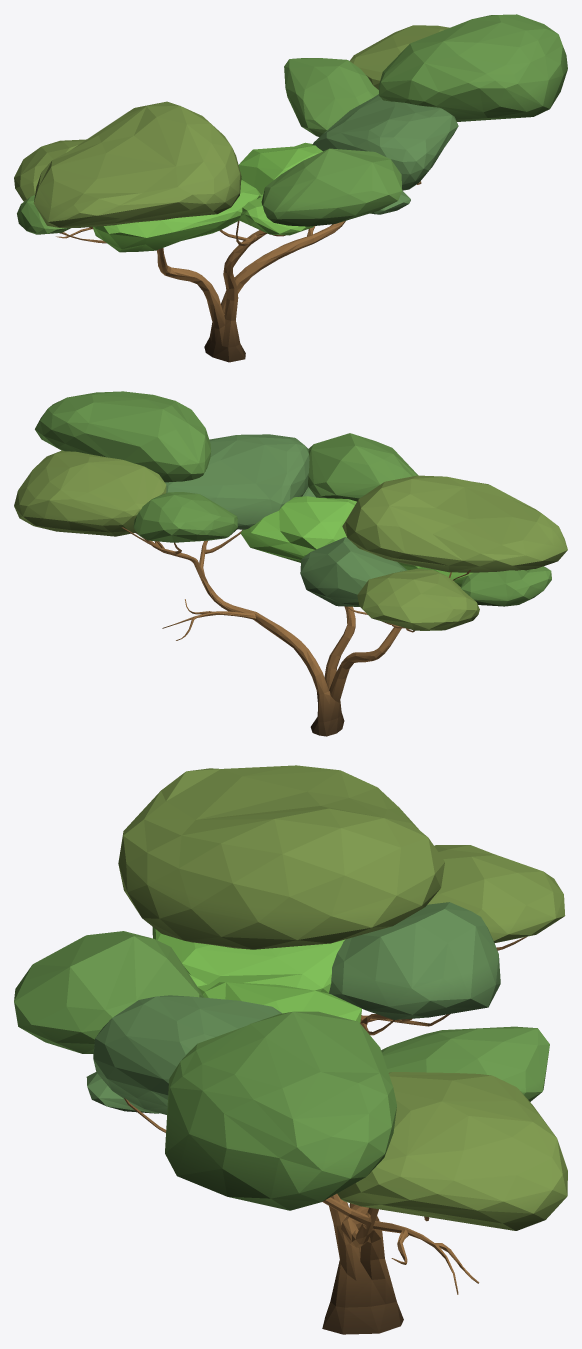
The model's file is JungleTree_Lrg_A.fbx.
3 views of the same model, one above another, from view 1: azimuth 30°, elevation 25°; view 2: azimuth 150°, elevation 25°; view 3: azimuth 270°, elevation 25° (orthographic). The views are drawn at different scales.
Parts seen in each view (by area): view 1: JungleTree_Lrg_A; view 2: JungleTree_Lrg_A; view 3: JungleTree_Lrg_A.
Part boxes in pixels (x1=…): JungleTree_Lrg_A: x1=14, y1=14, x2=567, y2=362; JungleTree_Lrg_A: x1=14, y1=391, x2=567, y2=736; JungleTree_Lrg_A: x1=14, y1=765, x2=567, y2=1334.
Bounding box in the file's own units: 25.91 × 12.75 × 13.46.
Materials: 1 (1 with a texture image).
